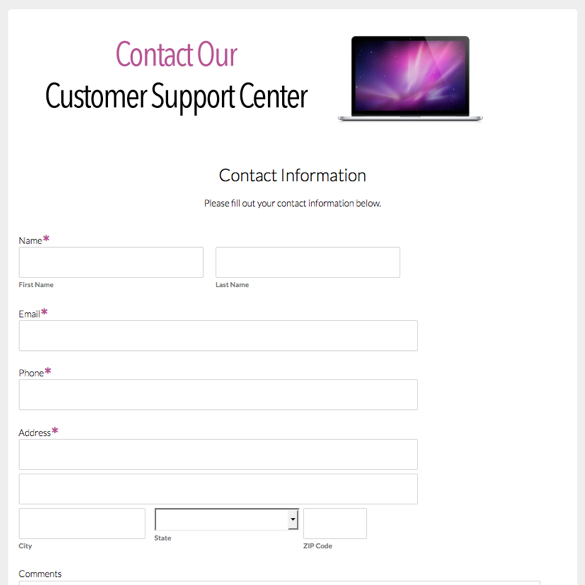dropdown: (150, 503, 301, 545)
textbox: (17, 302, 422, 365)
